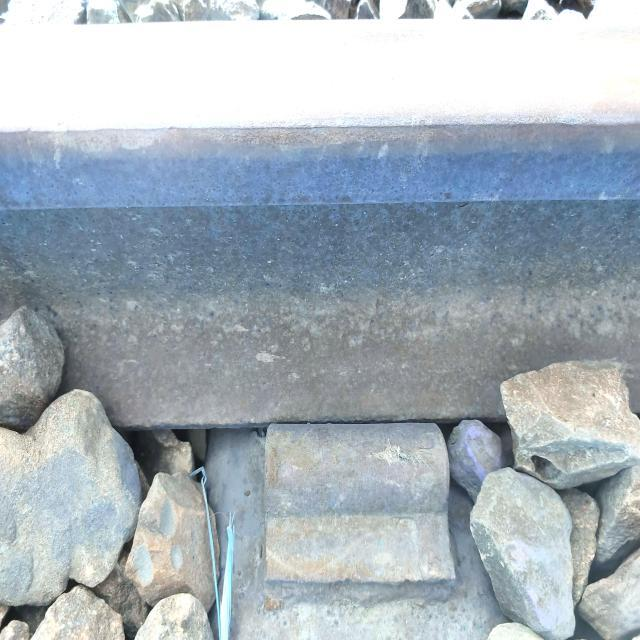Missing Fastener: (220, 403, 493, 621)
